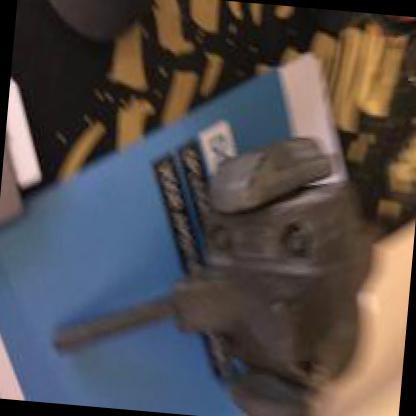Twistlock: (45, 120, 388, 415)
